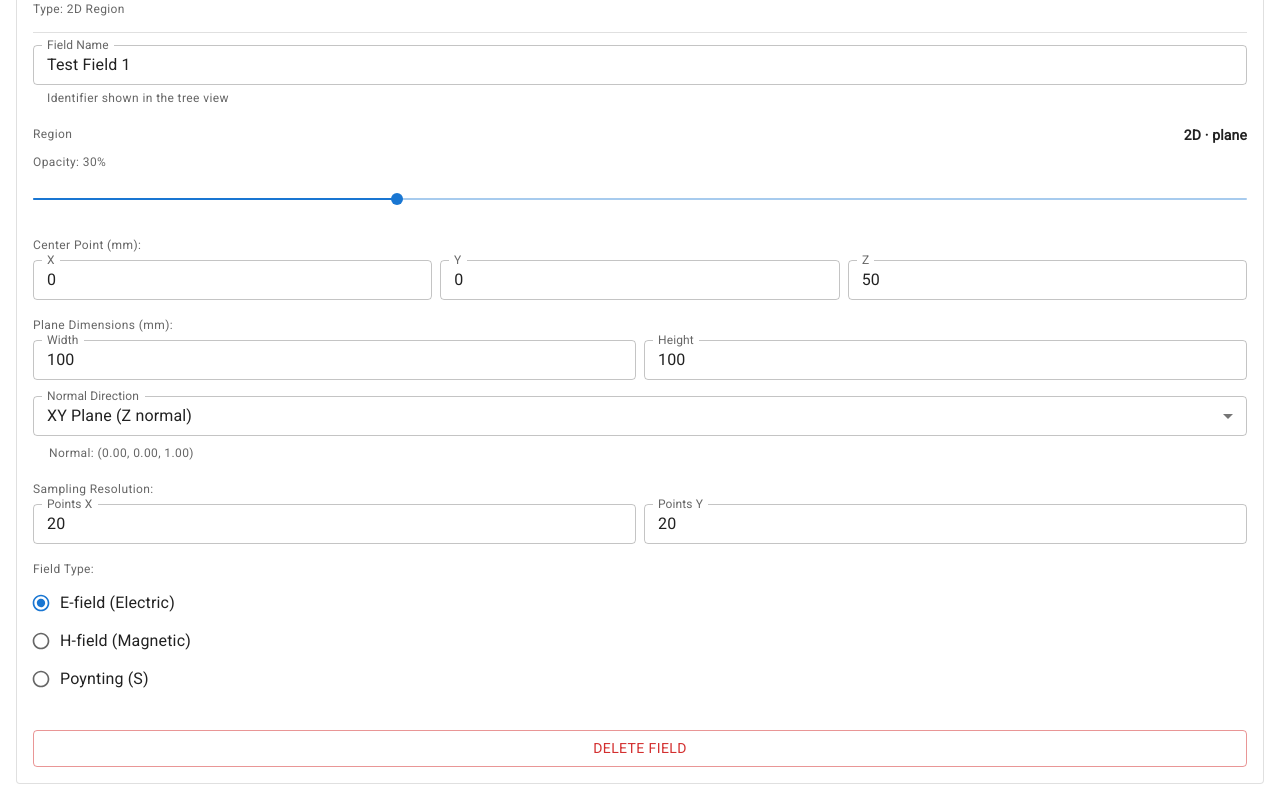
Scenario: SolverPropertiesPanel › cancels delete dialog
The width and height of the screenshot is (1280, 800).
(page scrolled)
Click the button "Delete Field": (640, 748) [33,730,1247,766]
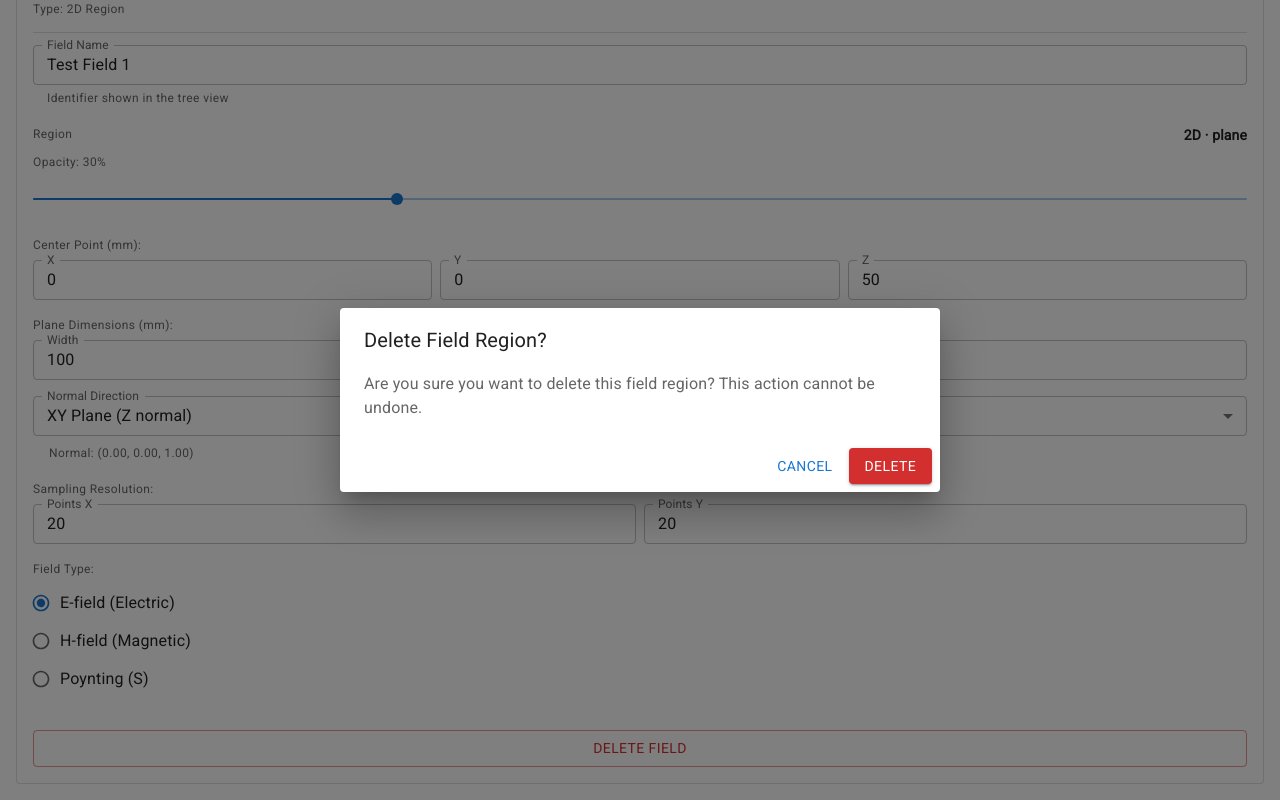
Click the button "Cancel": (805, 466) [769,448,841,484]
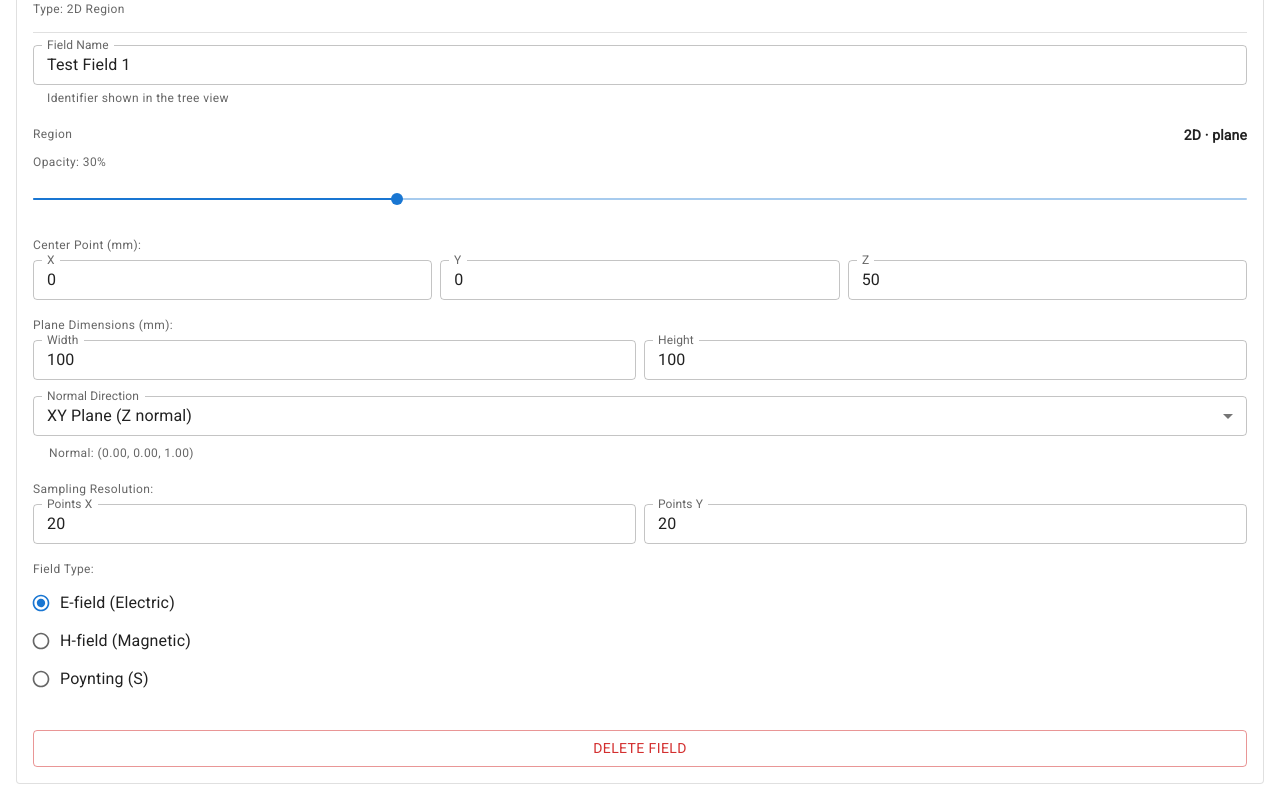
Check: the heading "Delete Field Region?" is gone
